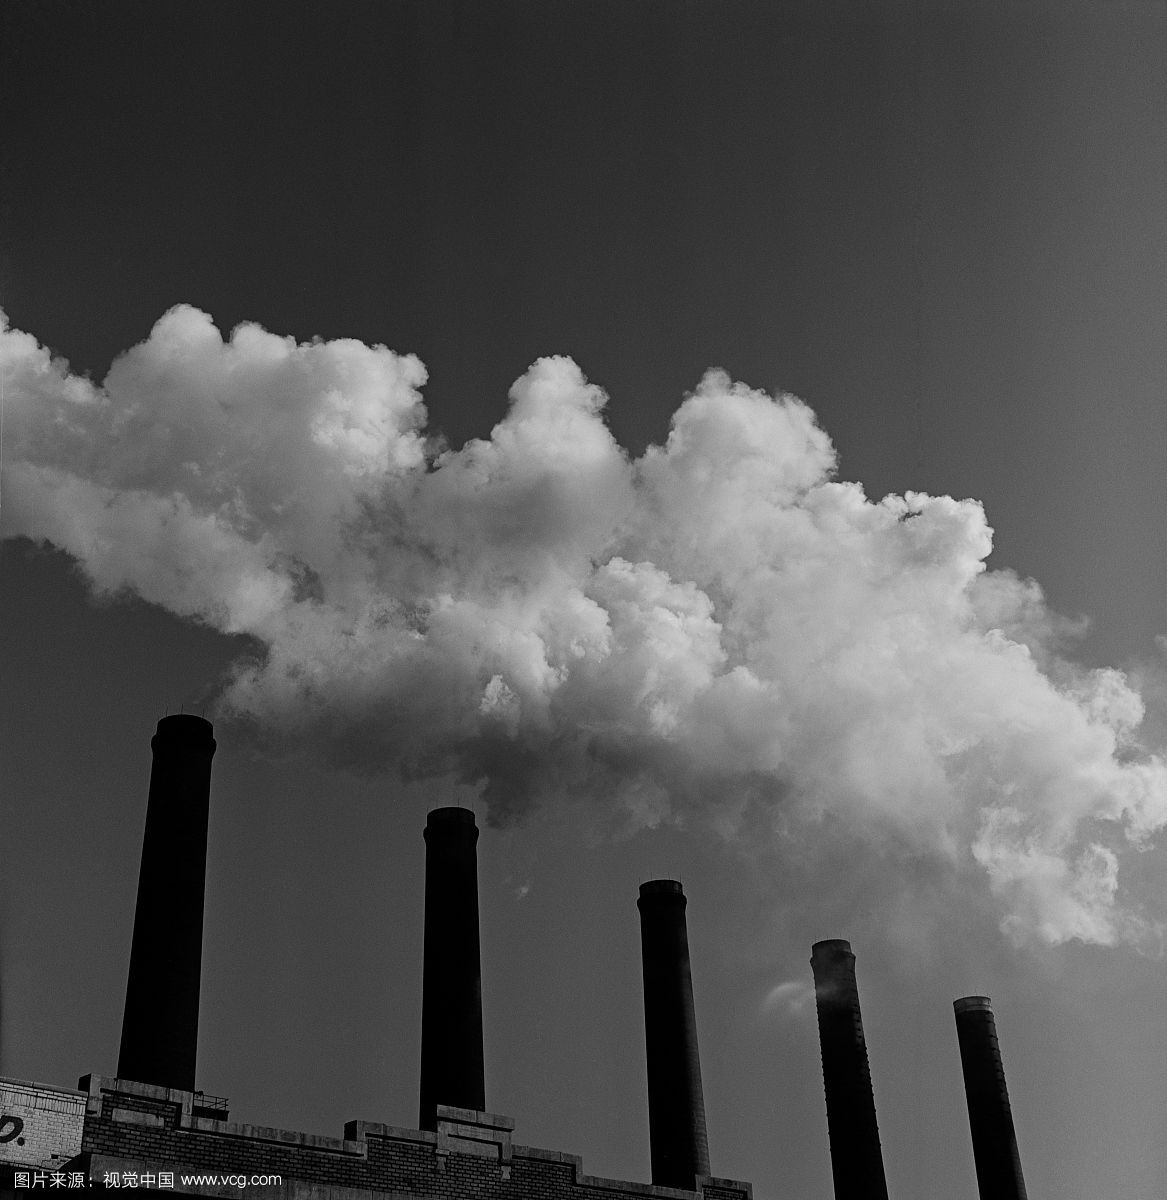dust: (60, 373, 394, 765)
